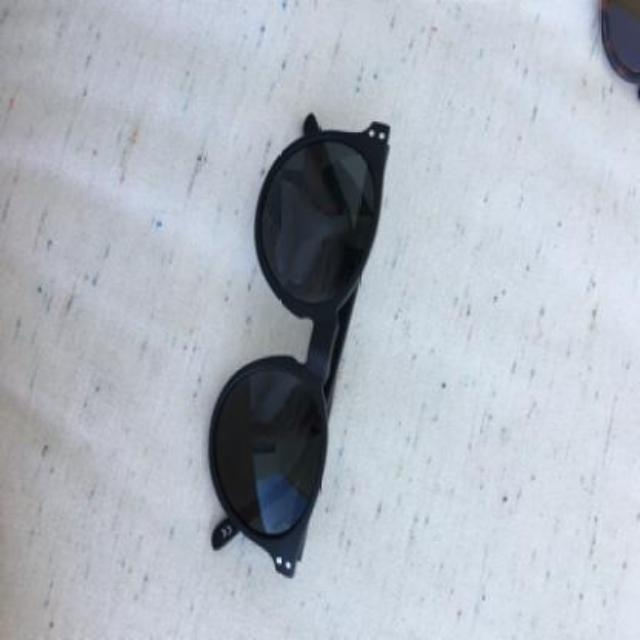sunglasses: (210, 110, 390, 580)
